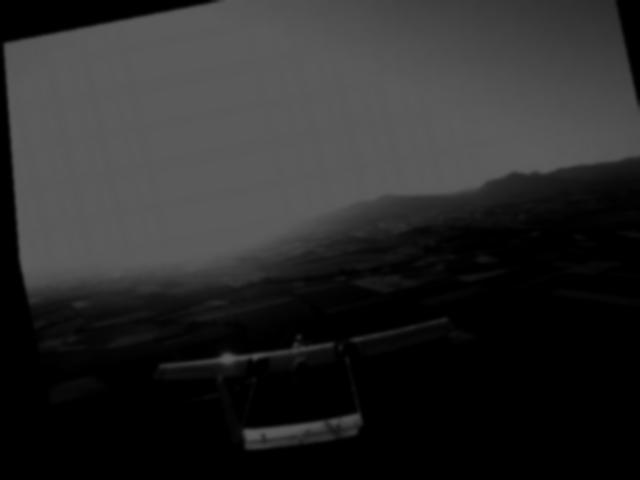hedef: (138, 298, 472, 475)
